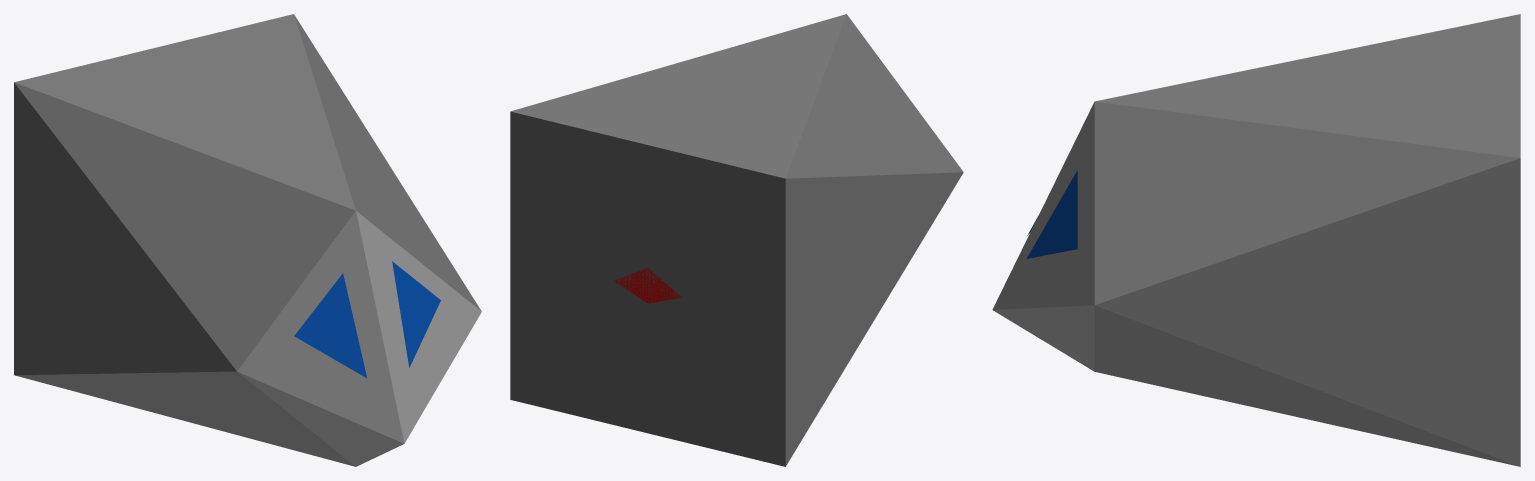
The model's file is shuttle.obj.
3 renders of one model, left to right at view 1: azimuth 30°, elevation 25°; view 2: azimuth 150°, elevation 25°; view 3: azimuth 270°, elevation 25°, orthographic. The views are drawn at different scales.
Visible parts, largest first — view 1: shuttle; view 2: shuttle; view 3: shuttle.
Part boxes in pixels (left/top/right/bottom): shuttle: left=14, top=14, right=481, bottom=466; shuttle: left=510, top=14, right=963, bottom=466; shuttle: left=992, top=14, right=1520, bottom=466.
Size of the model in its own units: 40 by 40 by 62.
